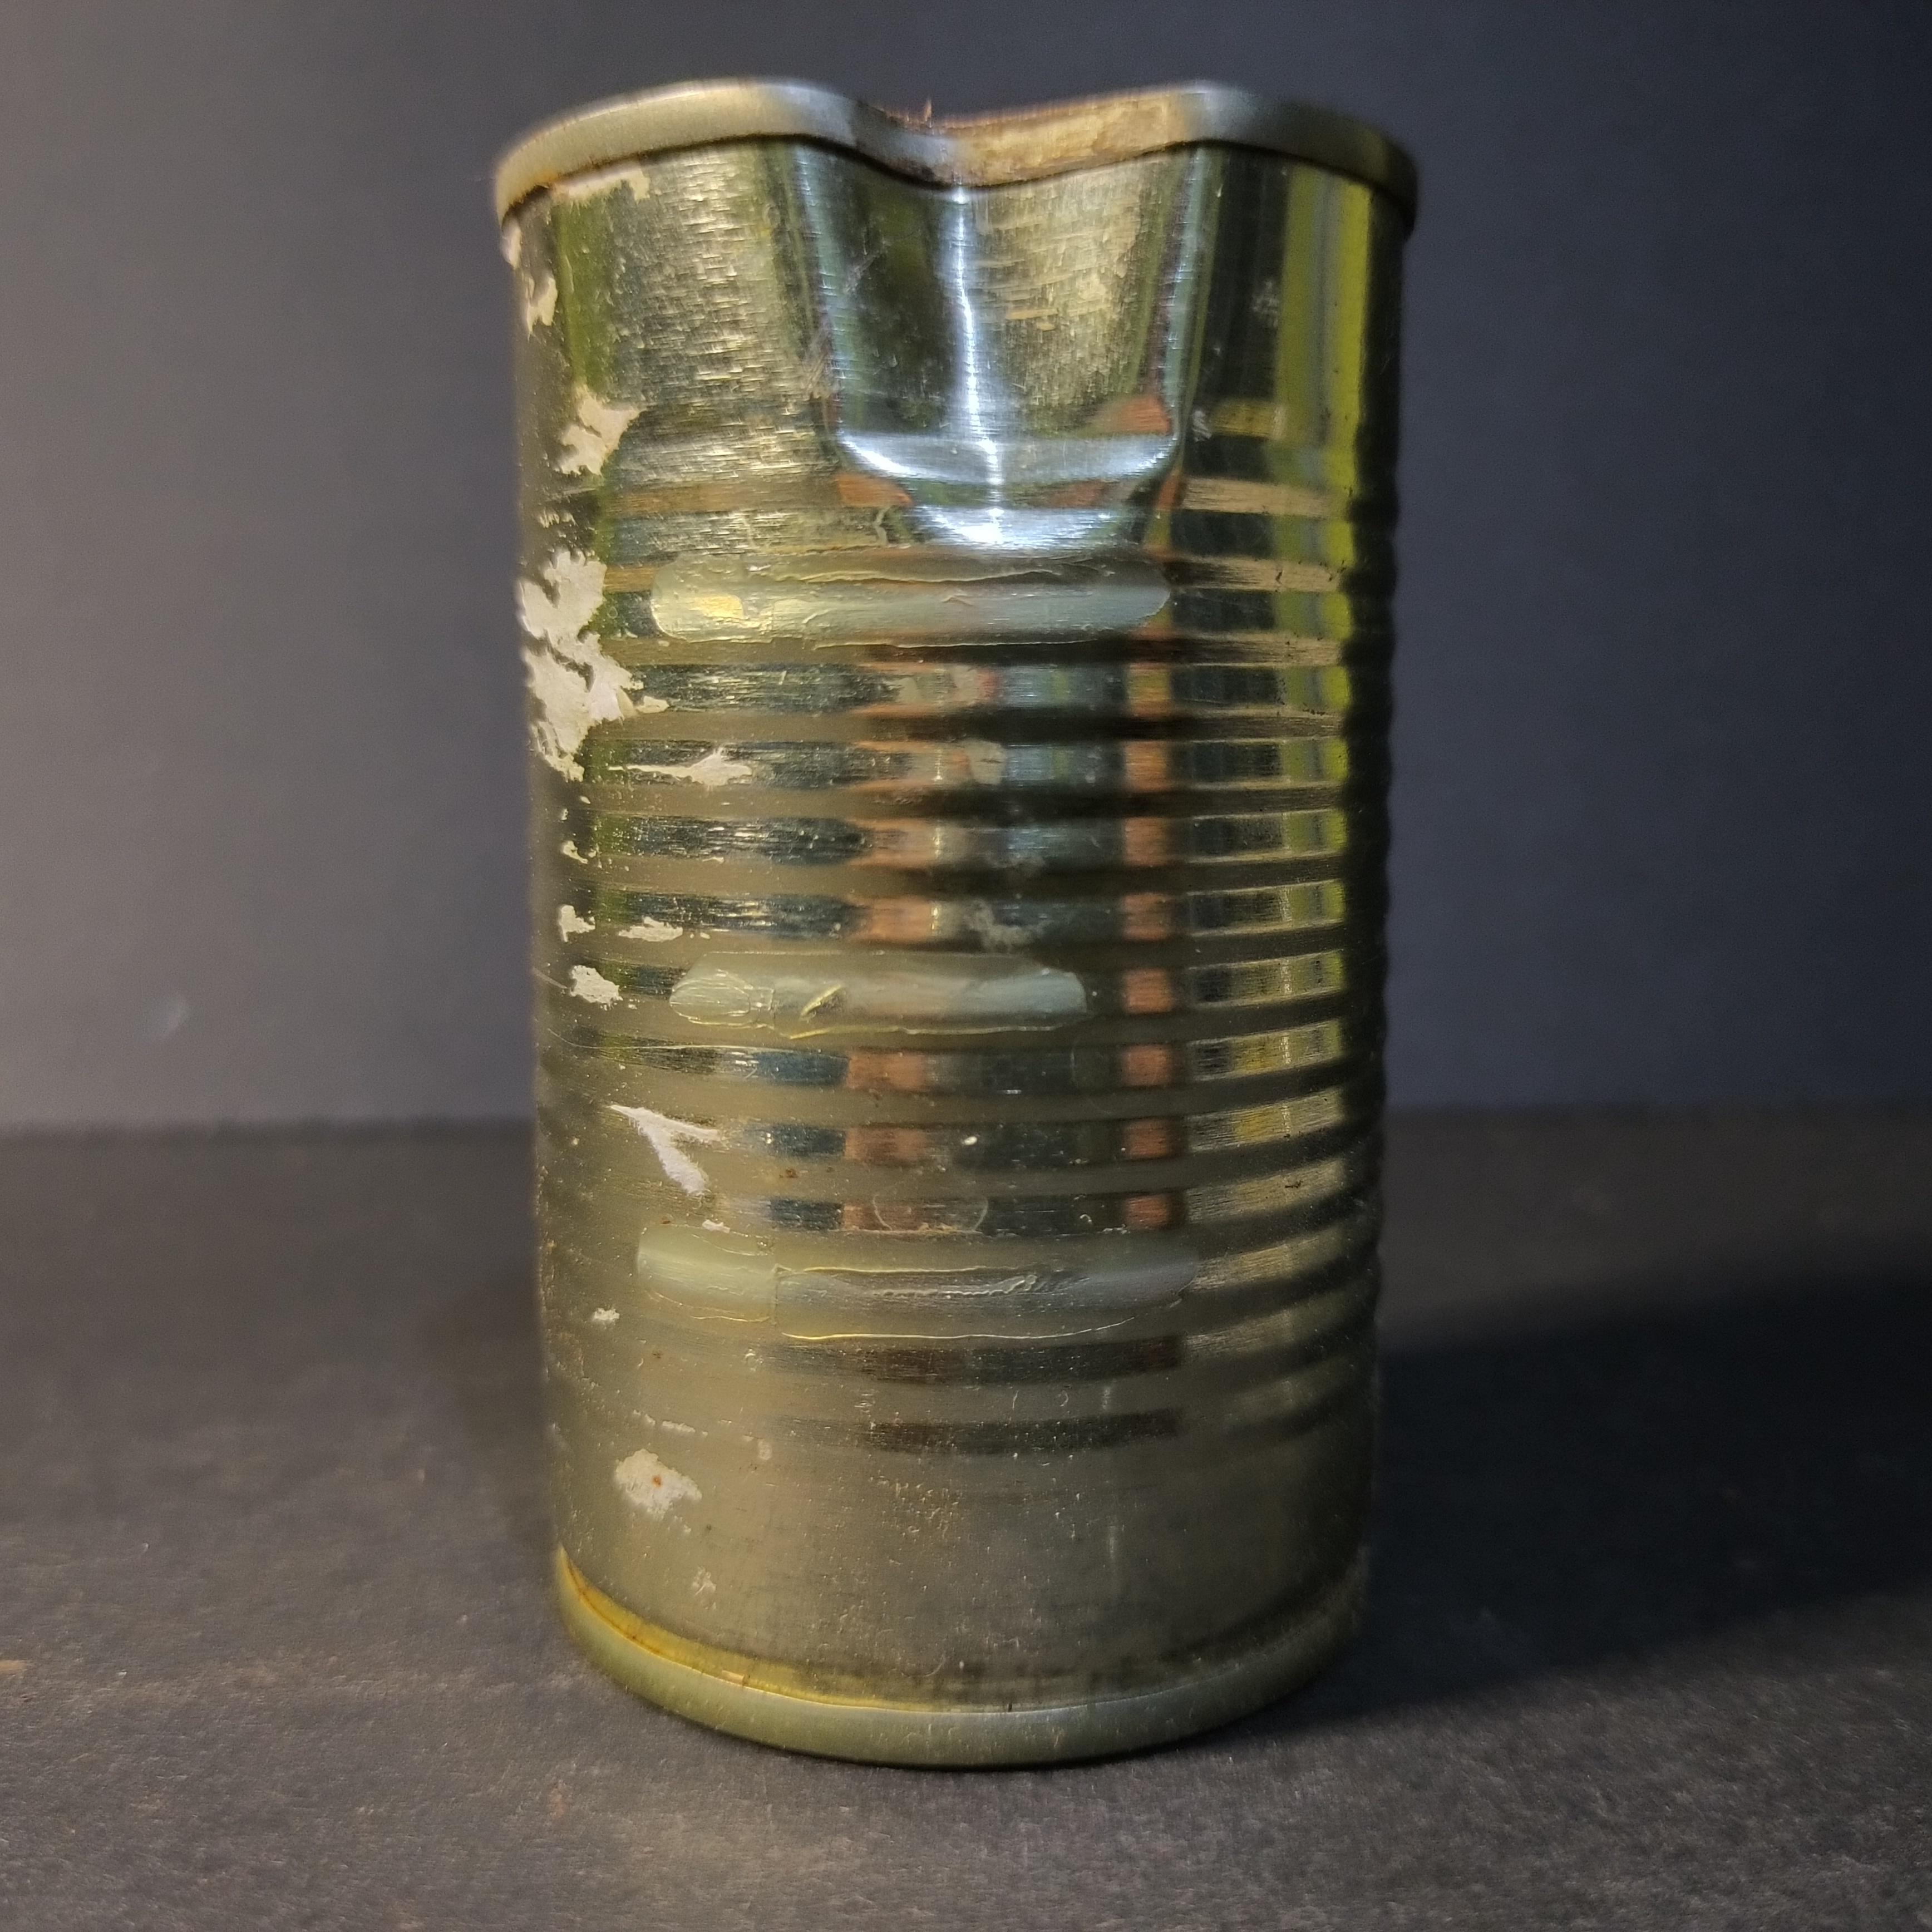Dented: (481, 35, 1463, 1812)
